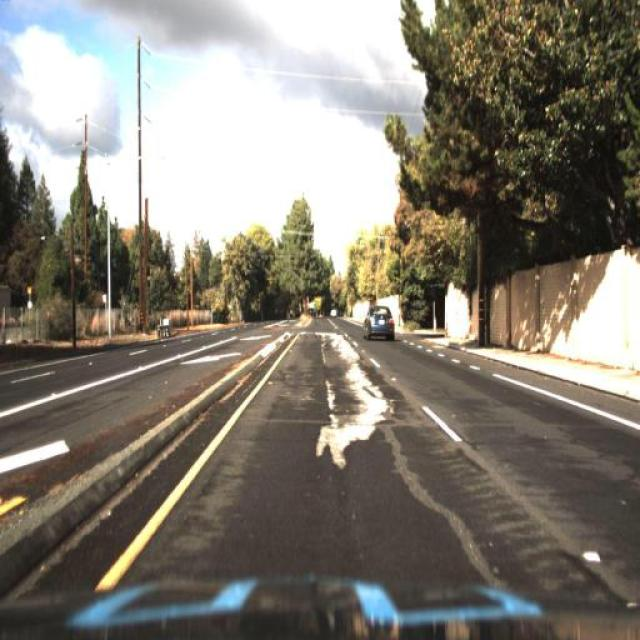car: (359, 302, 395, 344)
